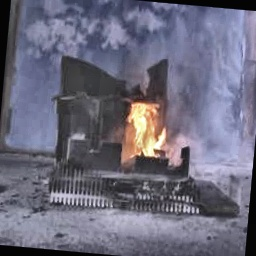fire: (121, 92, 180, 170)
